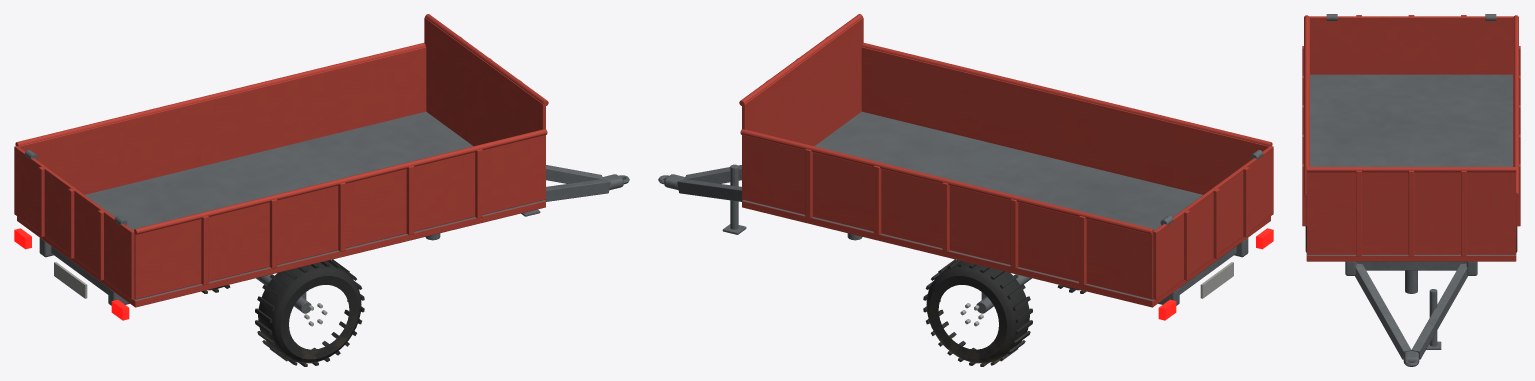
Rendered from trailer_used.glb.
3 views of the same model, side by side, from view 1: azimuth 30°, elevation 25°; view 2: azimuth 150°, elevation 25°; view 3: azimuth 270°, elevation 25° (orthographic). The views are drawn at different scales.
Parts seen in each view (by area): view 1: Bed, Tailgate, Wheel1_Tyre, Chassis, TailLamps, Plate; view 2: Bed, Tailgate, Wheel0_Tyre, Chassis, TailLamps, Plate; view 3: Bed, Tailgate, Chassis.
Boxes of the visible parts, left/top/right/bottom form: Bed: left=15, top=14, right=548, bottom=307; Tailgate: left=14, top=146, right=134, bottom=299; Wheel1_Tyre: left=255, top=259, right=364, bottom=366; Chassis: left=39, top=165, right=623, bottom=313; TailLamps: left=14, top=228, right=129, bottom=320; Plate: left=54, top=262, right=87, bottom=298; Bed: left=739, top=14, right=1272, bottom=307; Tailgate: left=1153, top=146, right=1273, bottom=299; Wheel0_Tyre: left=923, top=259, right=1032, bottom=366; Chassis: left=664, top=164, right=1248, bottom=313; TailLamps: left=1158, top=228, right=1273, bottom=320; Plate: left=1200, top=262, right=1233, bottom=298; Bed: left=1302, top=15, right=1520, bottom=261; Tailgate: left=1309, top=15, right=1513, bottom=74; Chassis: left=1345, top=261, right=1477, bottom=364.
Bounding box in the file's own units: 5.18 × 1.86 × 1.98.
10 materials, 9 textured.
